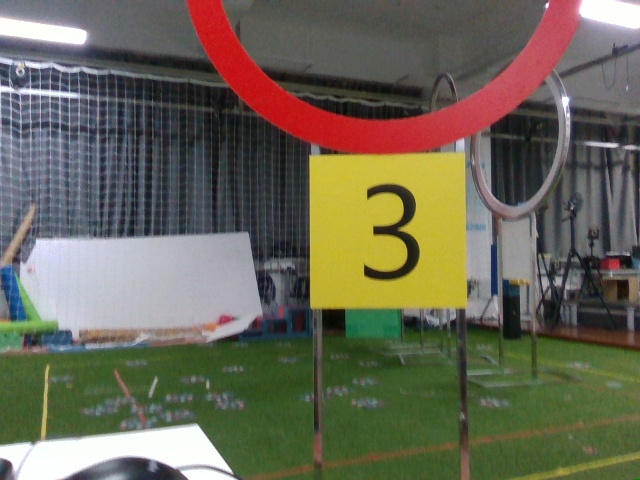target: (309, 160, 467, 306)
